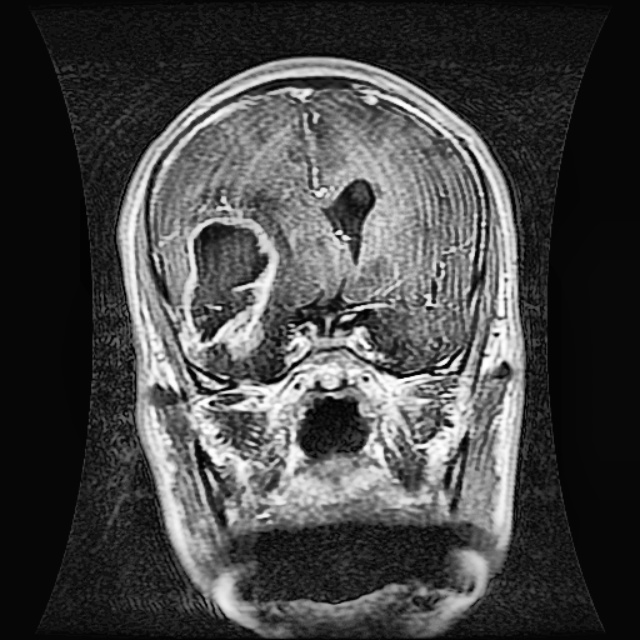Glioma: (179, 213, 279, 378)
